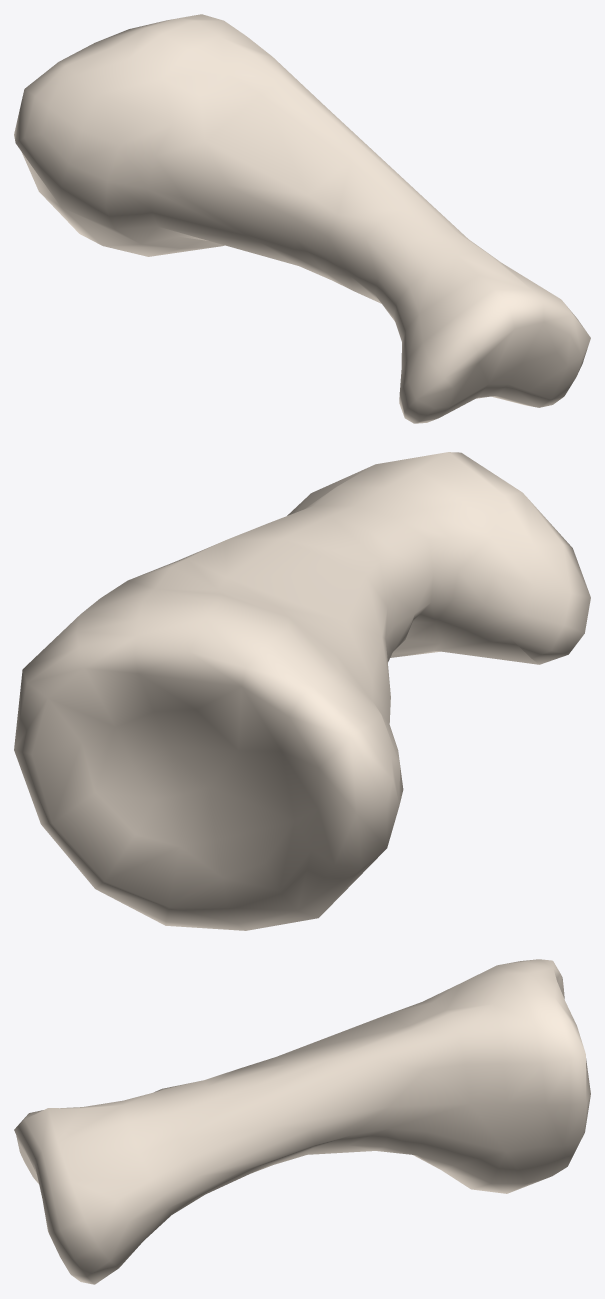
Rendered from left_toe_2_proximal.glb.
3 views of the same model, one above another, from view 1: azimuth 30°, elevation 25°; view 2: azimuth 150°, elevation 25°; view 3: azimuth 270°, elevation 25° (orthographic). The views are drawn at different scales.
Visible parts, largest first — view 1: Proximal phalanx of second finger of foot.r; view 2: Proximal phalanx of second finger of foot.r; view 3: Proximal phalanx of second finger of foot.r.
Part boxes in pixels (x1=…): Proximal phalanx of second finger of foot.r: x1=14, y1=14, x2=590, y2=423; Proximal phalanx of second finger of foot.r: x1=14, y1=452, x2=590, y2=930; Proximal phalanx of second finger of foot.r: x1=14, y1=959, x2=590, y2=1284.
Bounding box in the file's own units: 0.0174 × 0.0127 × 0.0285.
